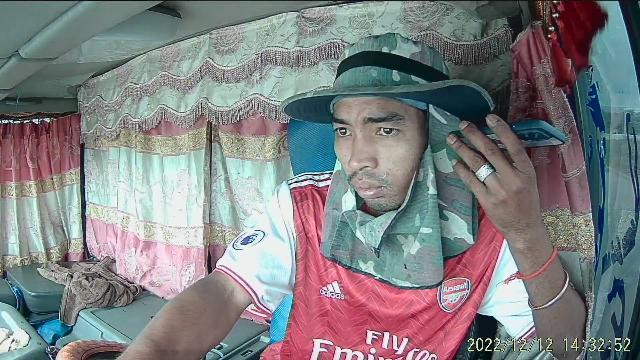PhoneUse: (448, 118, 568, 152)
SafeDriving: (369, 121, 404, 141), (329, 120, 357, 142)
